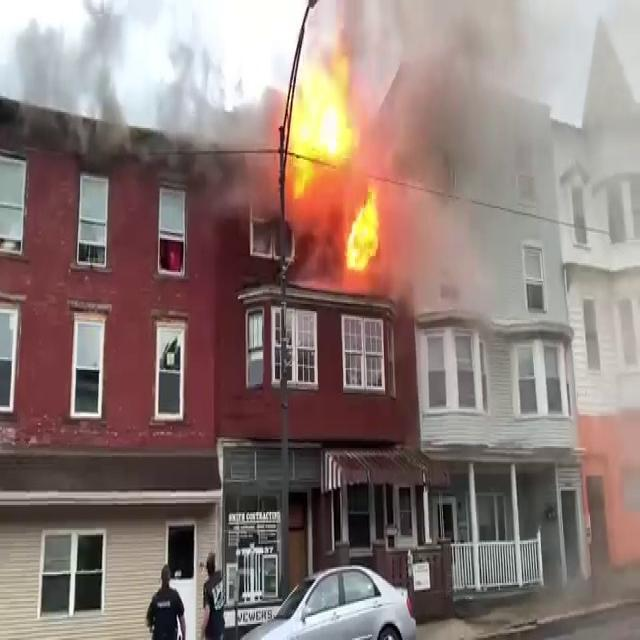Fire: (282, 34, 359, 195), (340, 180, 386, 282)
Smoke: (370, 0, 566, 311), (2, 1, 282, 206)
